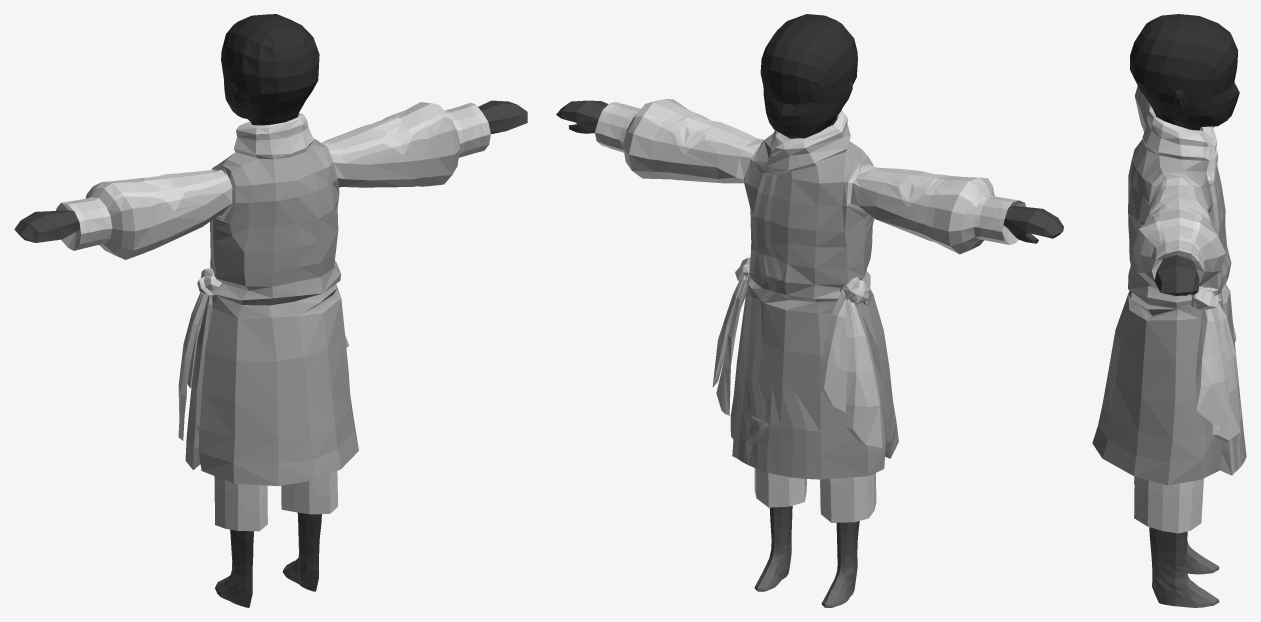
The model's file is CharSkyKid_Body_AP25Wrap.glb.
3 renders of one model, left to right at view 1: azimuth 30°, elevation 25°; view 2: azimuth 150°, elevation 25°; view 3: azimuth 270°, elevation 25°, orthographic.
Visible parts, largest first — view 1: CharSkyKid_Body_AP25Wrap; view 2: CharSkyKid_Body_AP25Wrap; view 3: CharSkyKid_Body_AP25Wrap.
Boxes of the visible parts, x1,y1,x2,y2 form: CharSkyKid_Body_AP25Wrap: [14, 14, 527, 607]; CharSkyKid_Body_AP25Wrap: [556, 14, 1063, 607]; CharSkyKid_Body_AP25Wrap: [1092, 14, 1246, 607].
Bounding box in the file's own units: 13.86 × 14.93 × 3.67.
Materials: 1 (1 with a texture image).
